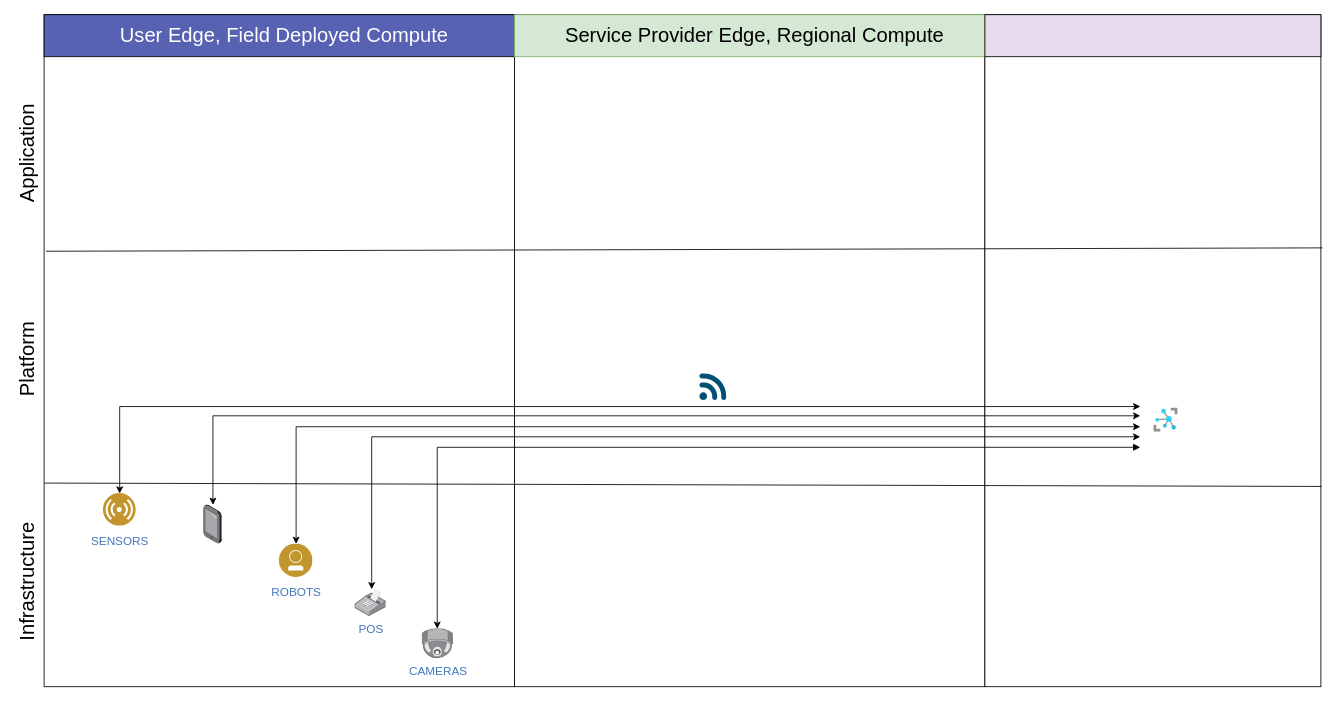
The diagram is 1338 pixels wide and 701 high, and some of its shapes have lost their labels. The shapes that lost their labels are listed below. From the top down, each one's box as (x1, y1, x2, y2) in pixels, then its label:
(984, 14, 1321, 57): Global and Cloud Compute
(1153, 407, 1178, 432): IOT HUB
(203, 505, 222, 543): OTHER THINGS
